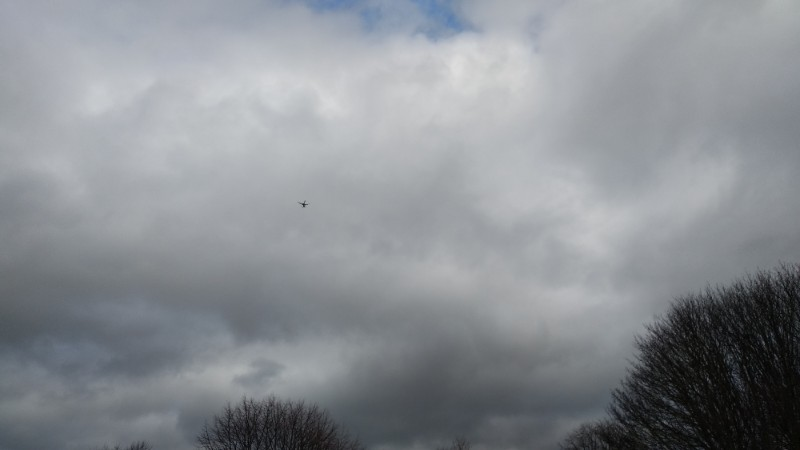drone: (296, 200, 310, 209)
